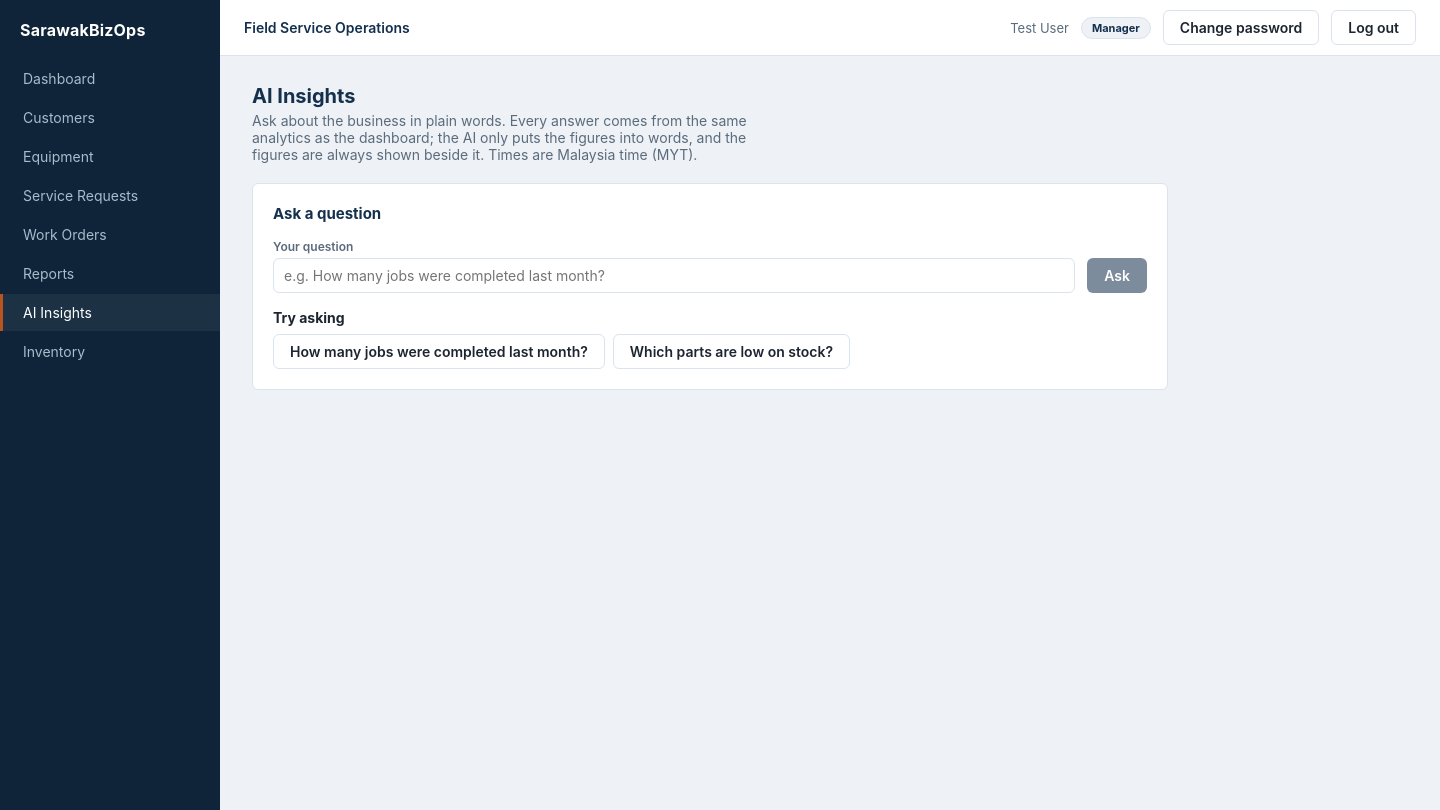
Test: AI Manager Insights › shows the rate-limit message and keeps the question
Type "Which parts are low on stock?" into the field labelled "Your question".
click(674, 276); type("Which parts are low on stock?")  # box [273,258,1075,293]
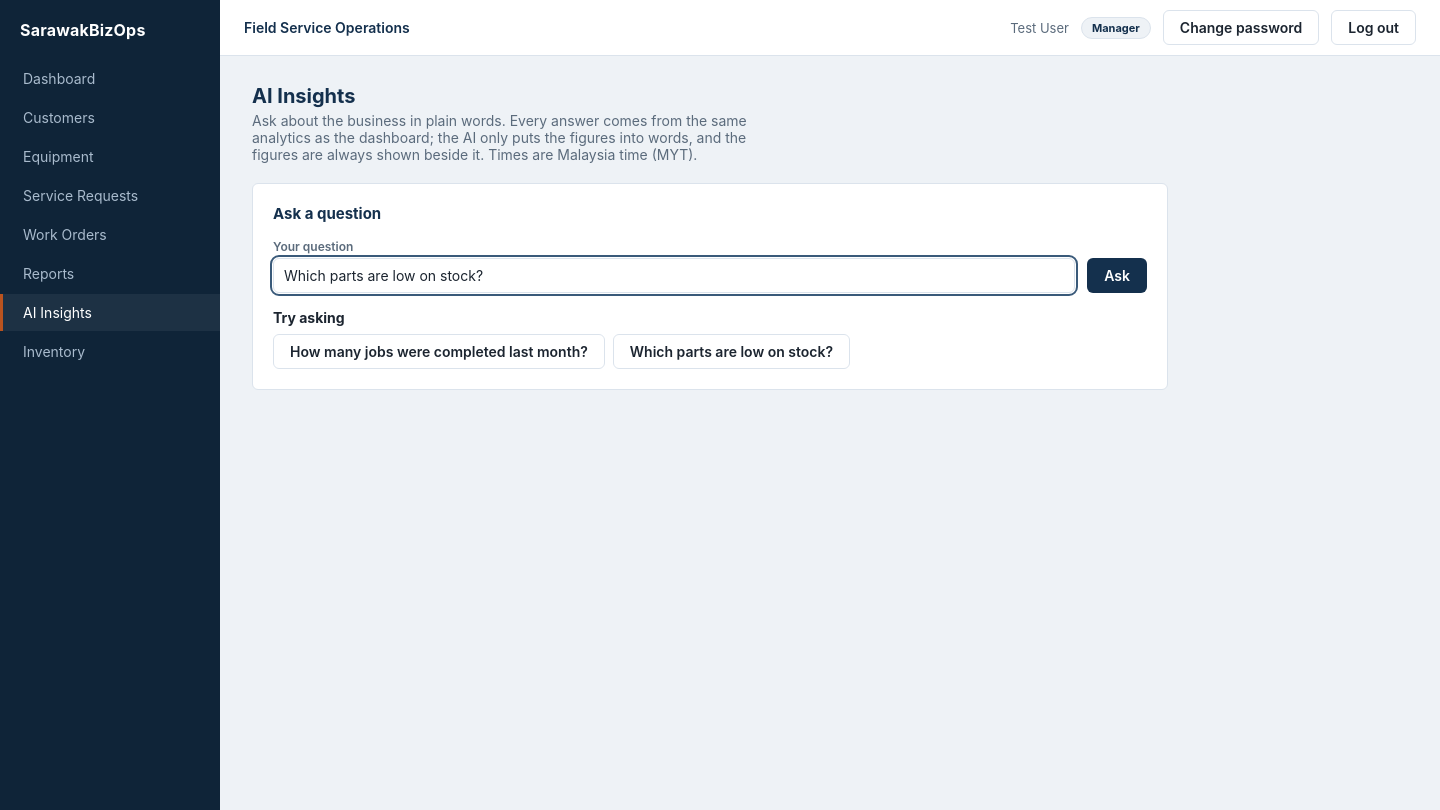
Click the button "Ask".
click(1117, 276)  # box [1087,258,1147,293]
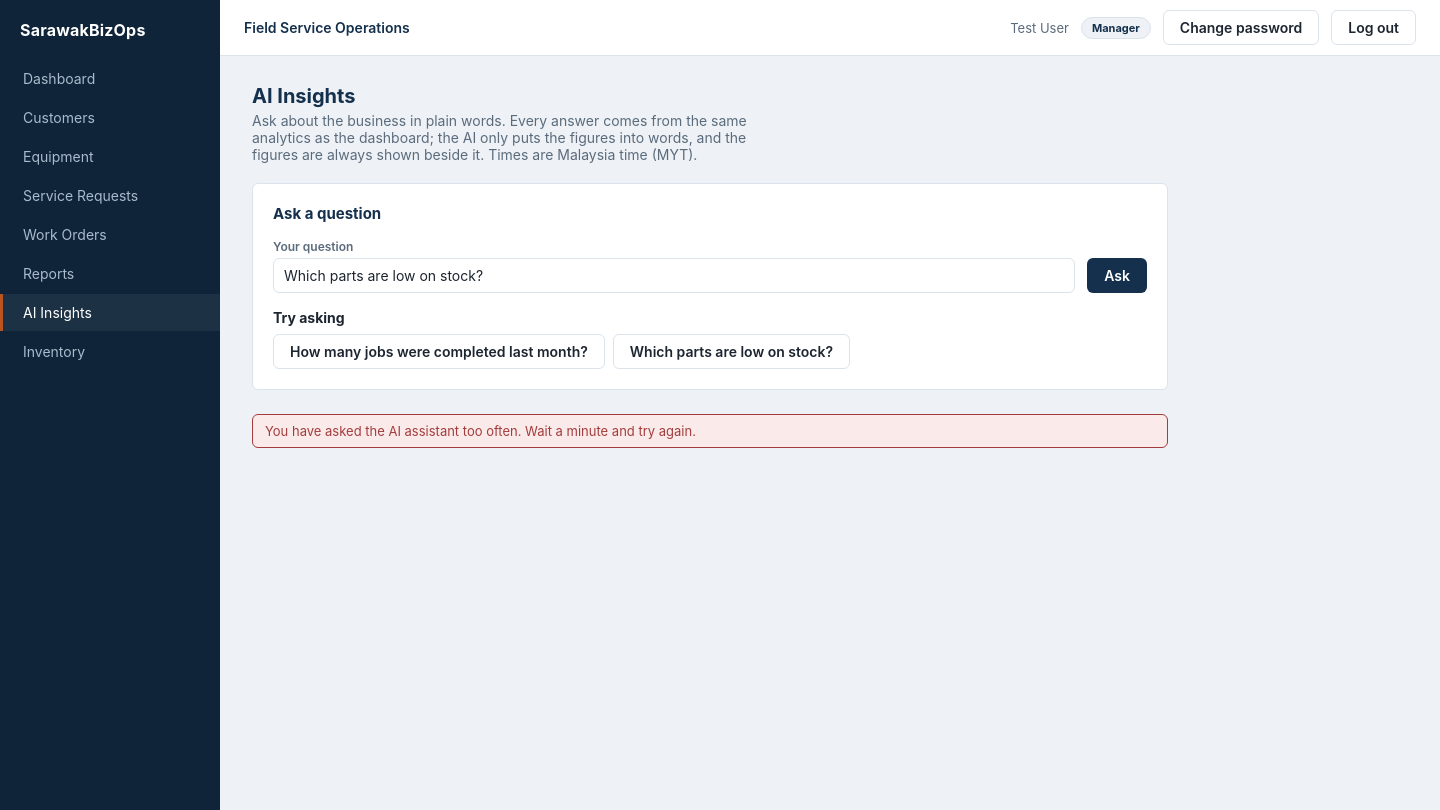
Result: the message shows "Wait a minute and try again." at [265,423,696,439]
